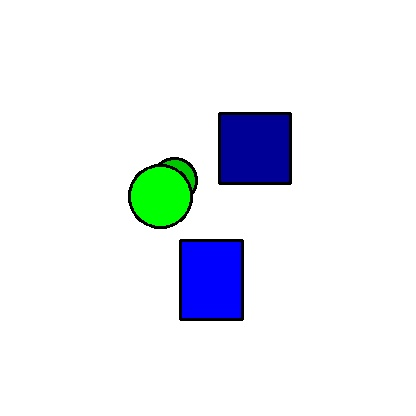circle: (152, 125, 196, 235), (129, 164, 191, 228)
rectangle: (219, 113, 290, 183), (180, 240, 242, 319)
